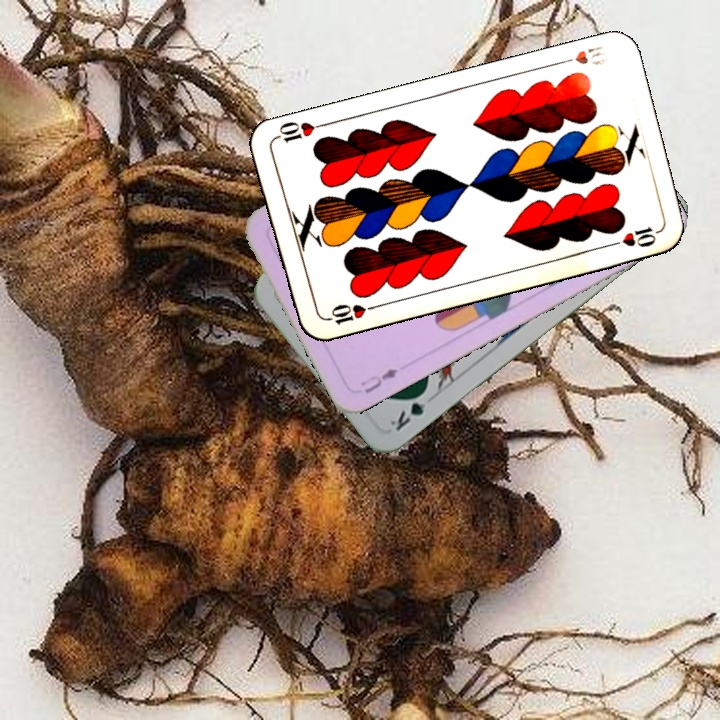EU: (357, 364, 402, 396)
GK: (386, 385, 432, 434)
H10: (320, 300, 379, 328), (554, 41, 605, 68)
